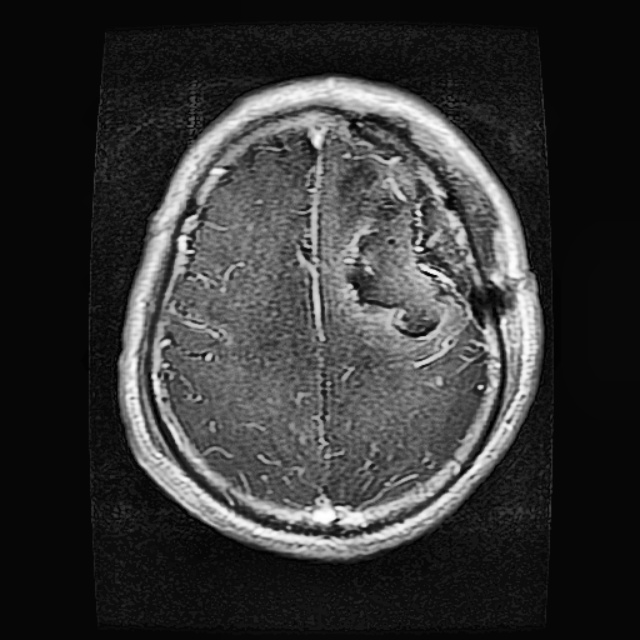Pituitary: (350, 174, 474, 334)
